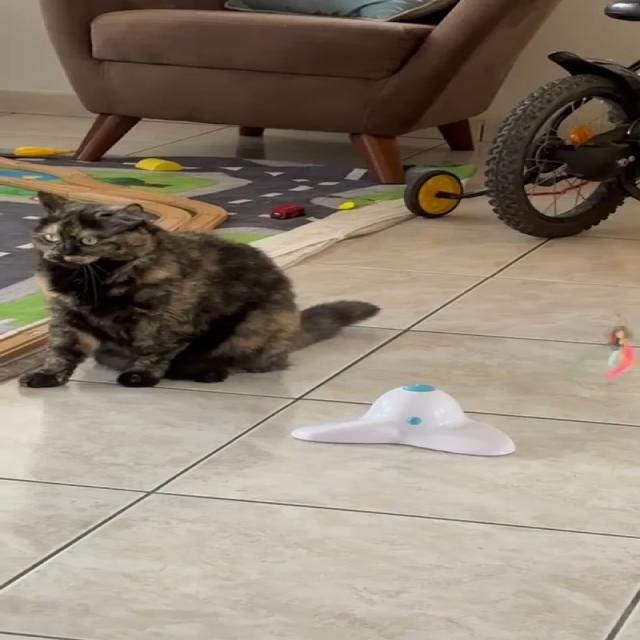authorized: (18, 190, 382, 388)
